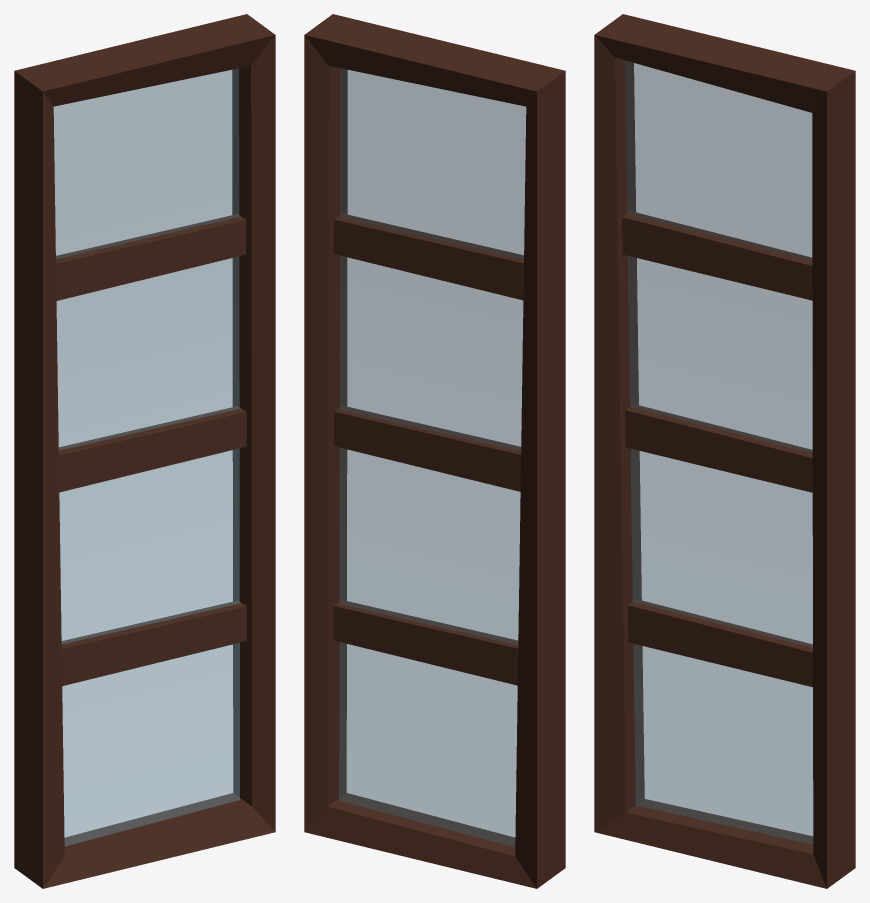
File: Window 1x4 glass panel.glb
The picture shows the model from 3 angles, left to right: view 1: azimuth 30°, elevation 25°; view 2: azimuth 150°, elevation 25°; view 3: azimuth 330°, elevation 25°; orthographic projection.
Visible parts, largest first — view 1: Window 1x4 glass panel; view 2: Window 1x4 glass panel; view 3: Window 1x4 glass panel.
Boxes of the visible parts, x1,y1,x2,y2 form: Window 1x4 glass panel: [14, 14, 275, 888]; Window 1x4 glass panel: [304, 14, 565, 888]; Window 1x4 glass panel: [594, 14, 855, 888].
Size of the model in its own units: 0.5022 by 1.65 by 0.1067.
Materials: 2 (2 with a texture image).
